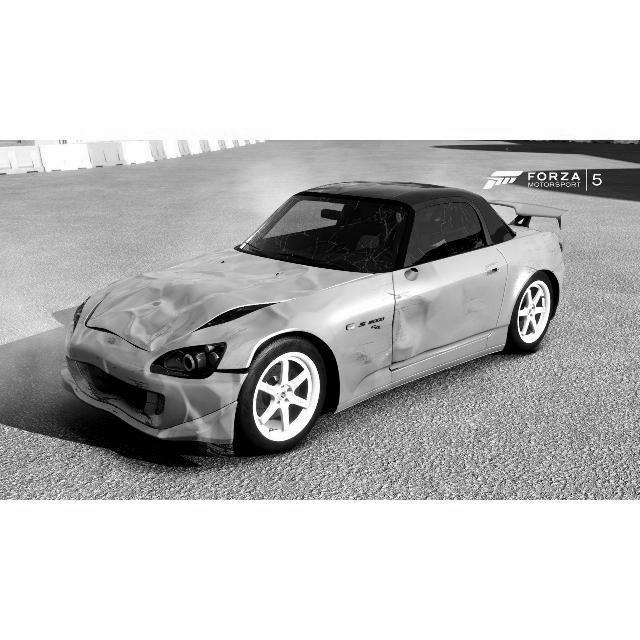Front-windscreen-damage: (257, 193, 391, 268)
bonnet-dent: (87, 243, 334, 325)
doorouter-dent: (392, 244, 505, 350)
fender-dent: (196, 284, 383, 394)
front-bumper-dent: (47, 346, 167, 428)
quaterpanel-dent: (505, 235, 564, 286)
